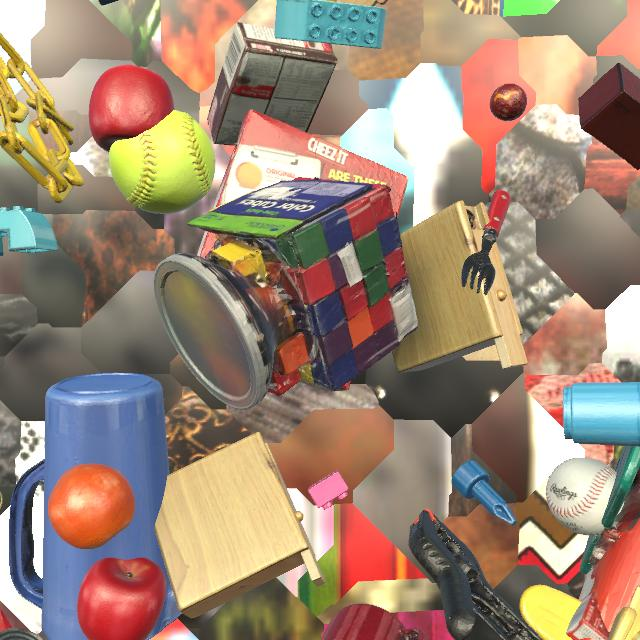ycb_003_cracker_box: (197, 109, 409, 392), (0, 608, 12, 632)
ycb_007_tuna_fish_can: (0, 628, 43, 640)
ycb_008_pudding_box: (207, 22, 338, 146)
ycb_009_gelatin_box: (566, 568, 640, 640)
ycb_010_potted_meat_can: (0, 492, 3, 509)
ycb_013_apple: (89, 65, 174, 152), (77, 557, 166, 640)
ycb_015_peach: (325, 0, 337, 2)
ycb_017_orange: (48, 464, 135, 549)
